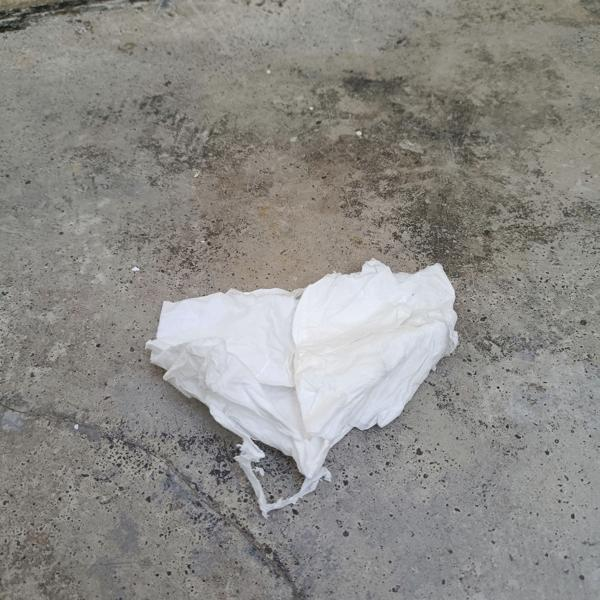Organik: (148, 260, 462, 512)
